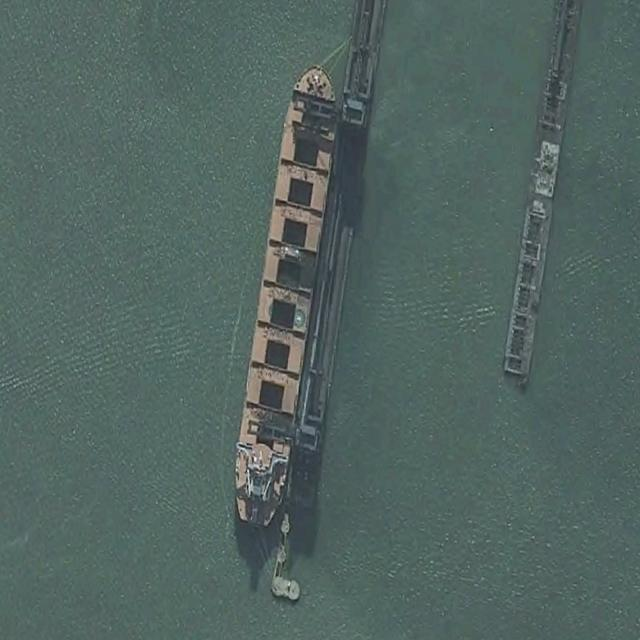Cargo: (226, 55, 345, 533)
